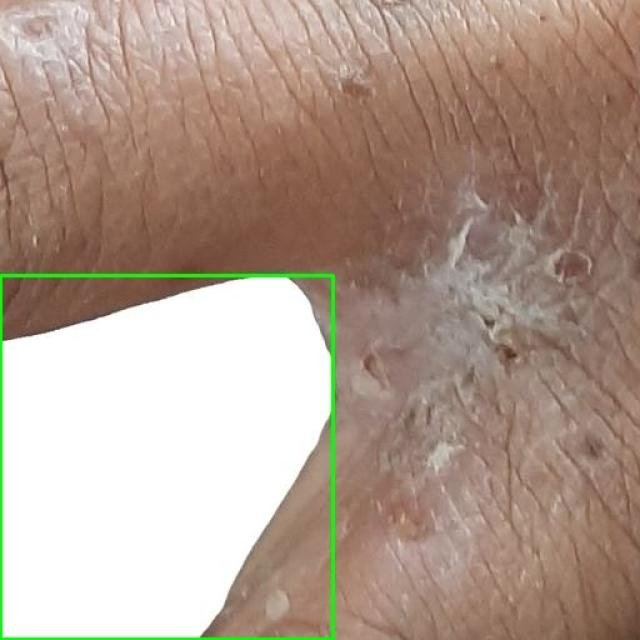Scabies: (0, 275, 332, 639)
